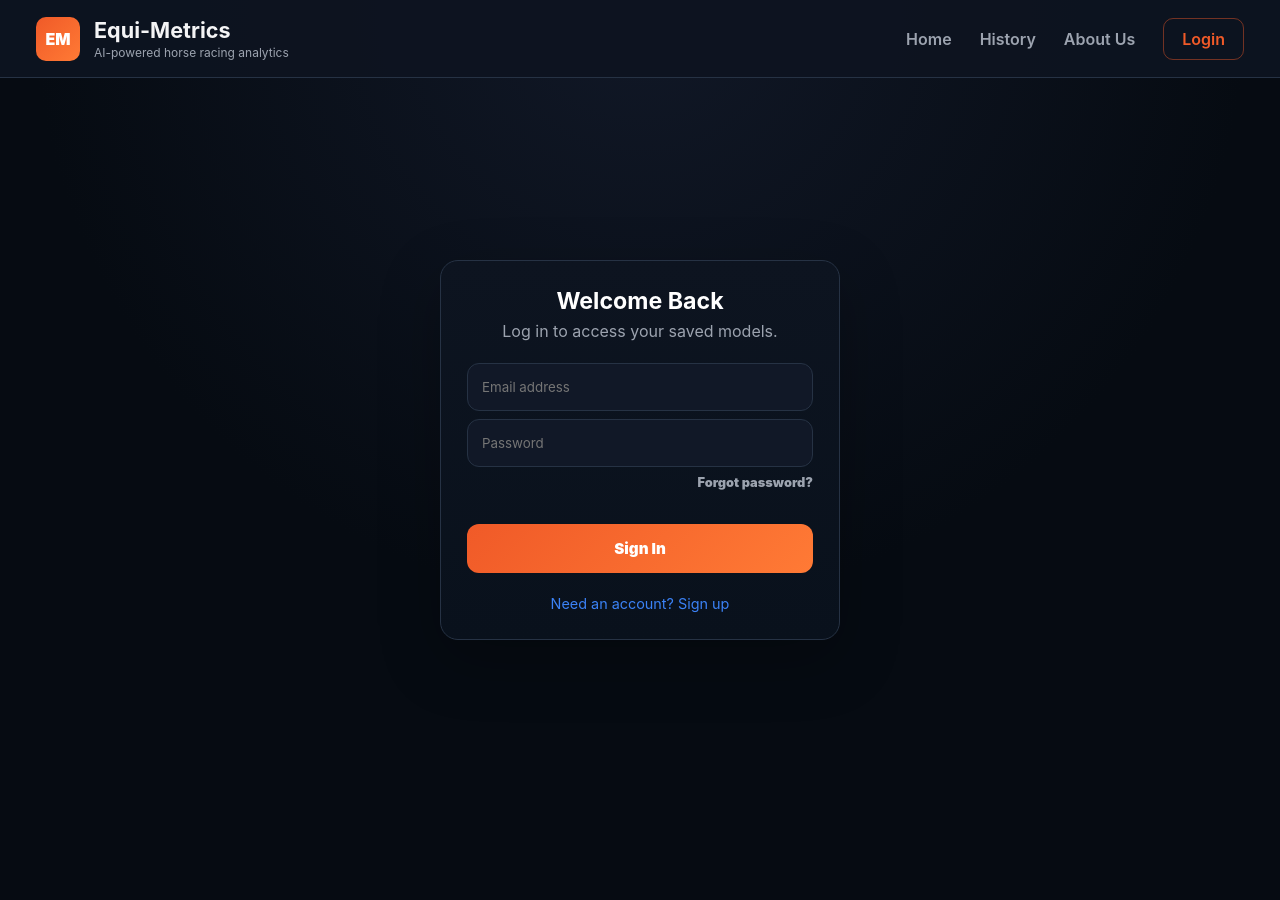
it: Login › shows the API's error message if login fails, without navigating away
In the field labelled "Email address": (640, 387) [467,363,813,411], type "rider@example.com"
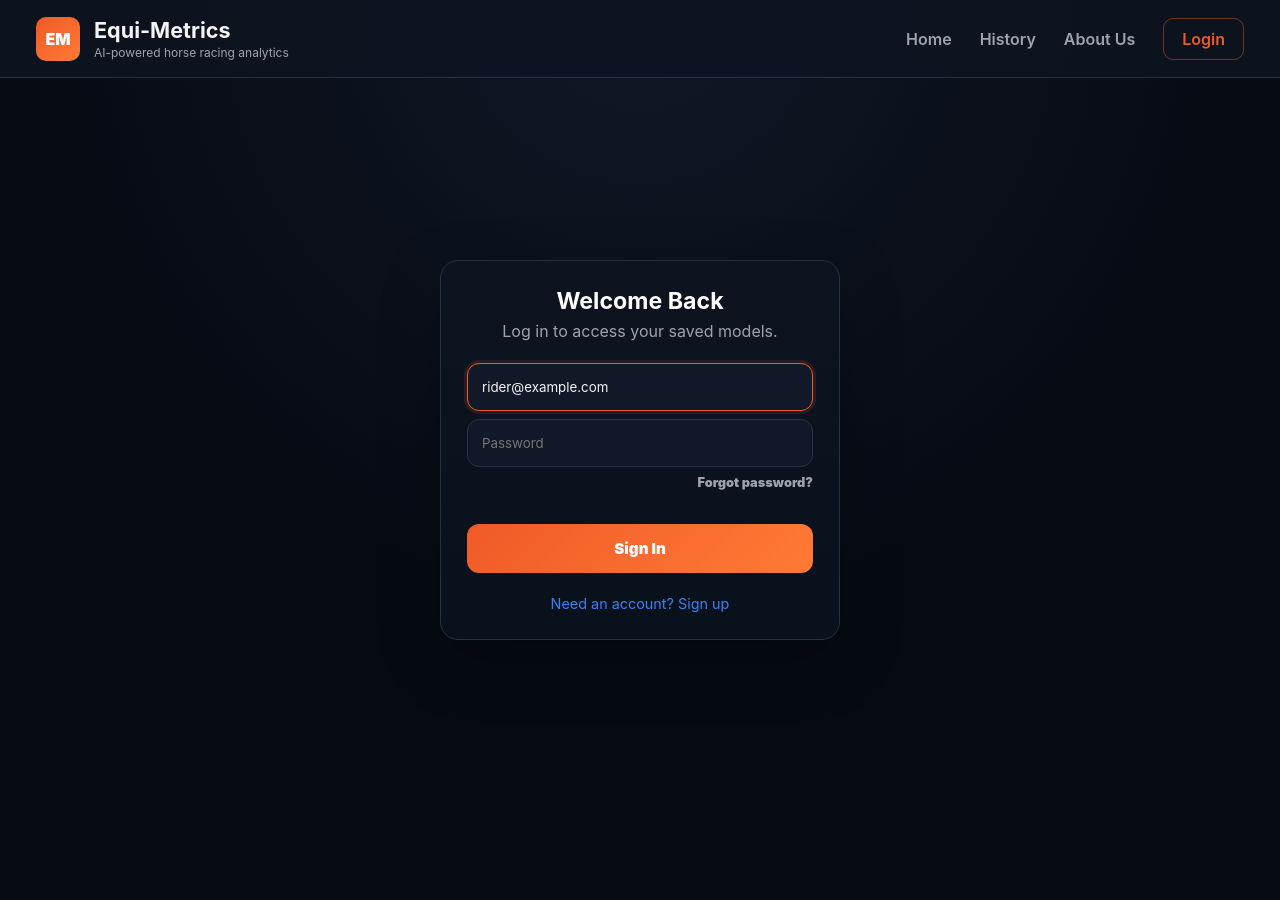
In the password field labelled "Password": (640, 443) [467,419,813,467], type "wrong-password"
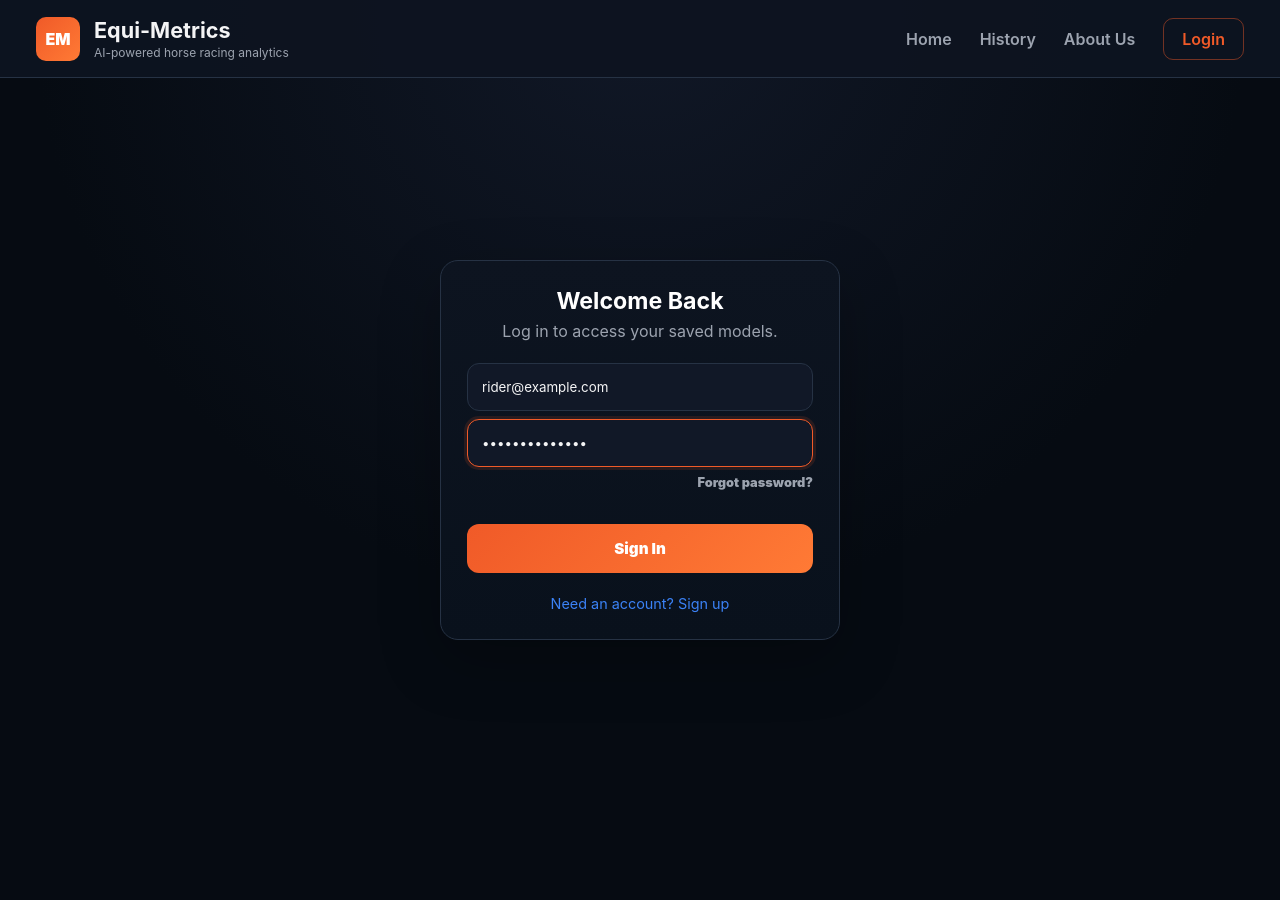
Click the button "Sign In": click(640, 548) [467,524,813,573]
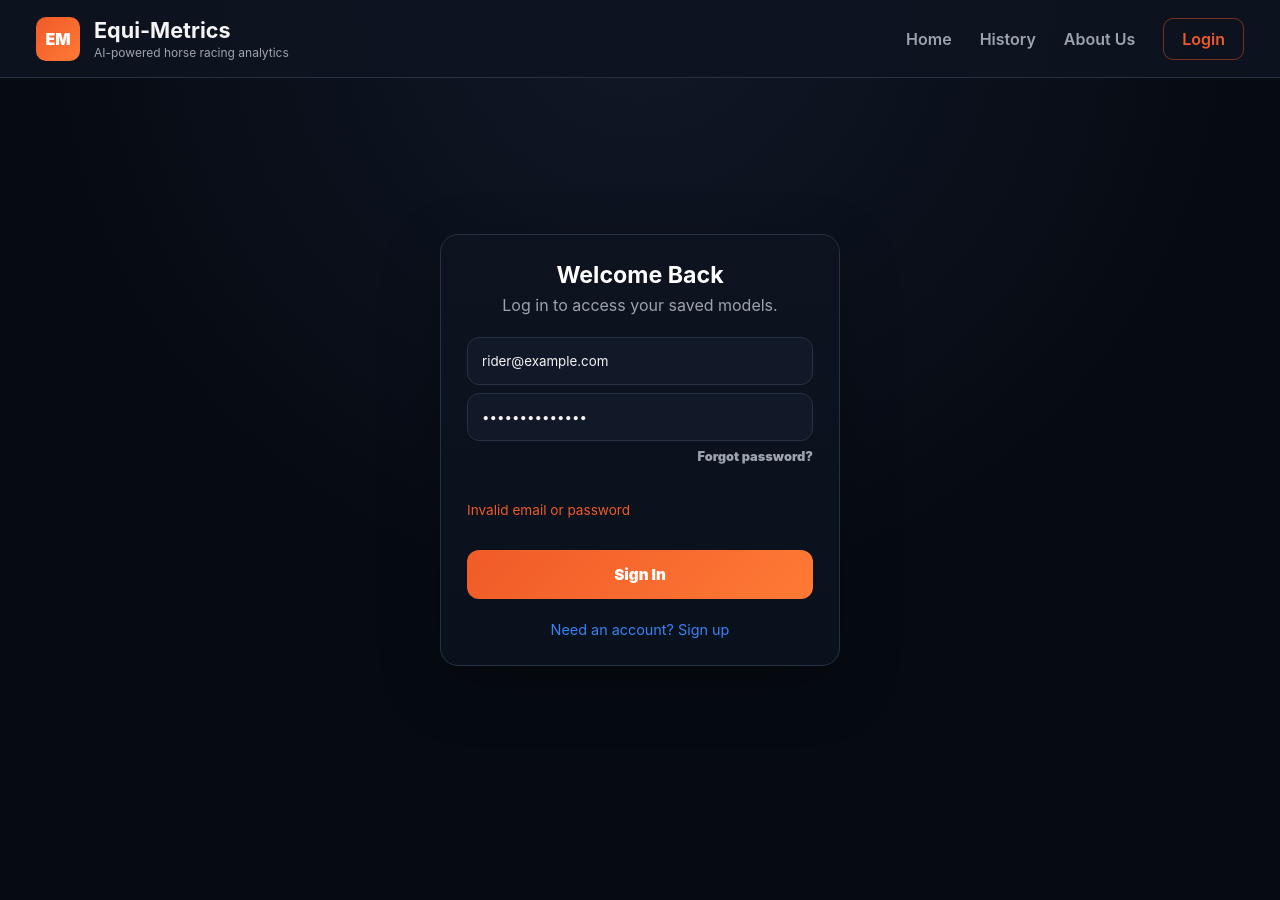
expect the heading "Welcome Back" is shown: met, box [556,261,724,289]
expect the text "Invalid email or password" is shown: met, box [467,502,630,518]
